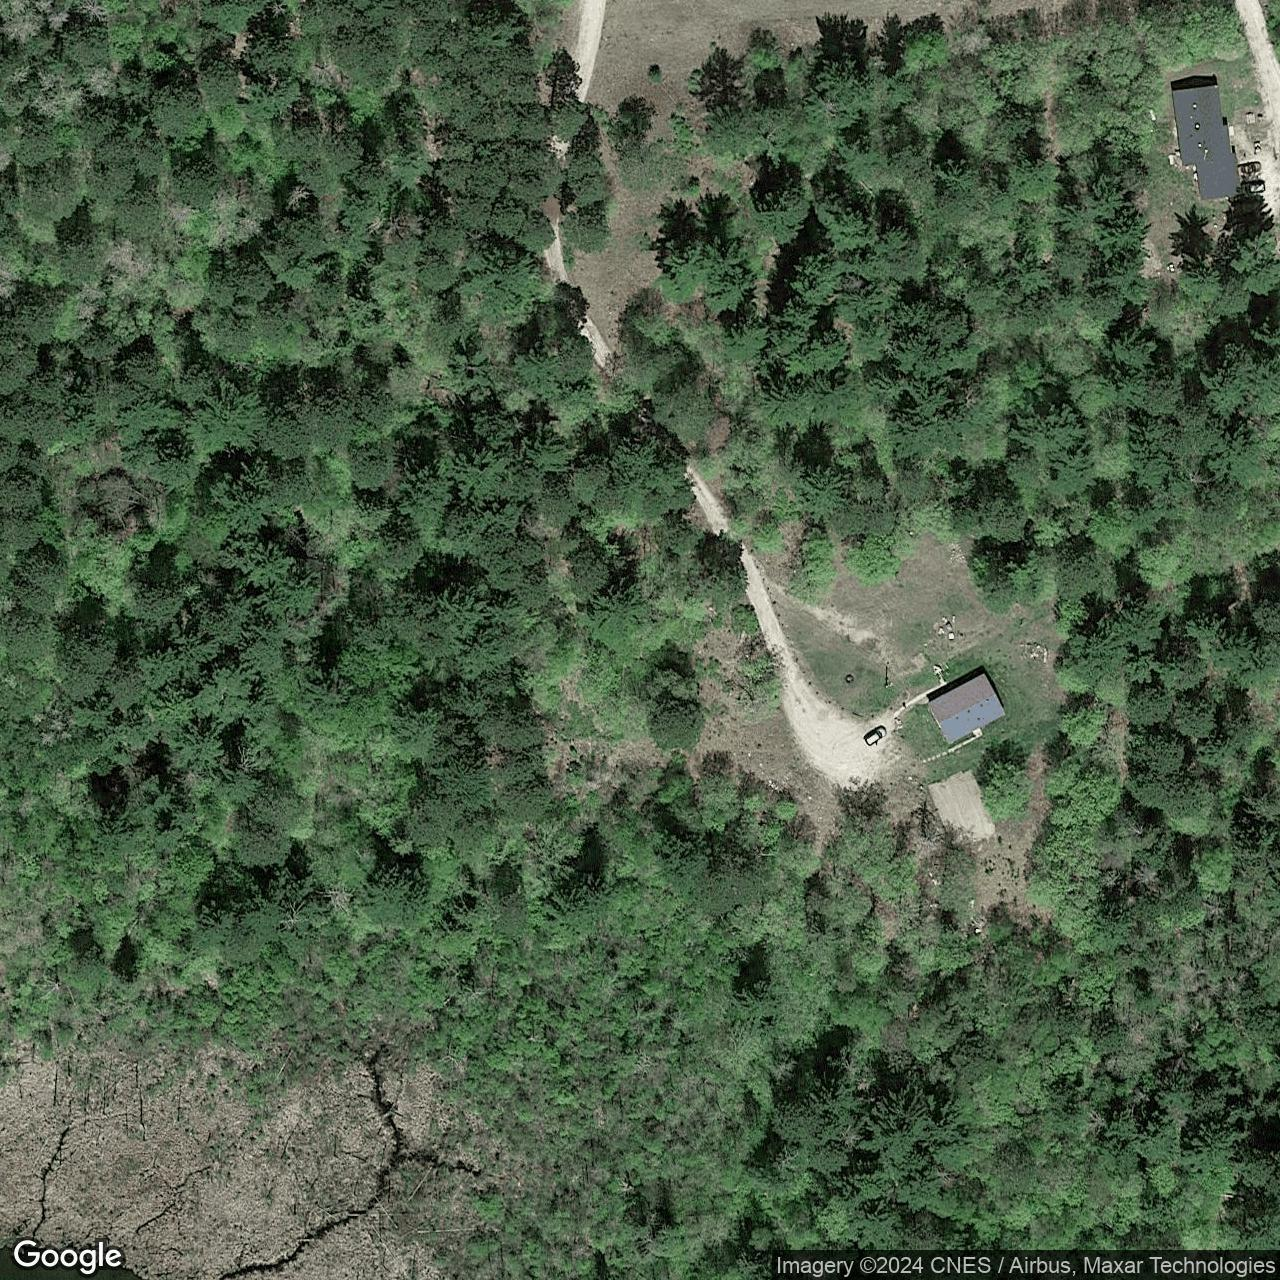House: (1171, 83, 1241, 202), (926, 672, 1007, 744)
Propane: (1146, 108, 1158, 122)
